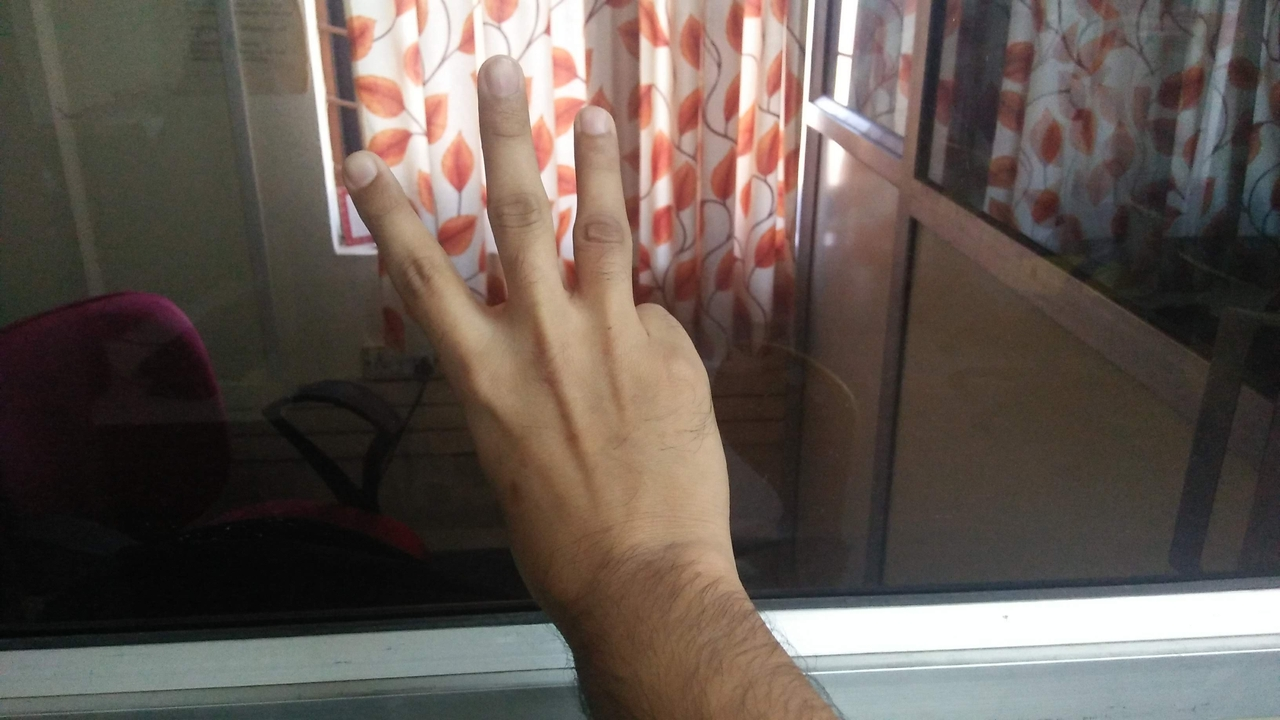fingertip: (472, 52, 526, 108), (566, 98, 618, 148), (336, 144, 386, 192)
